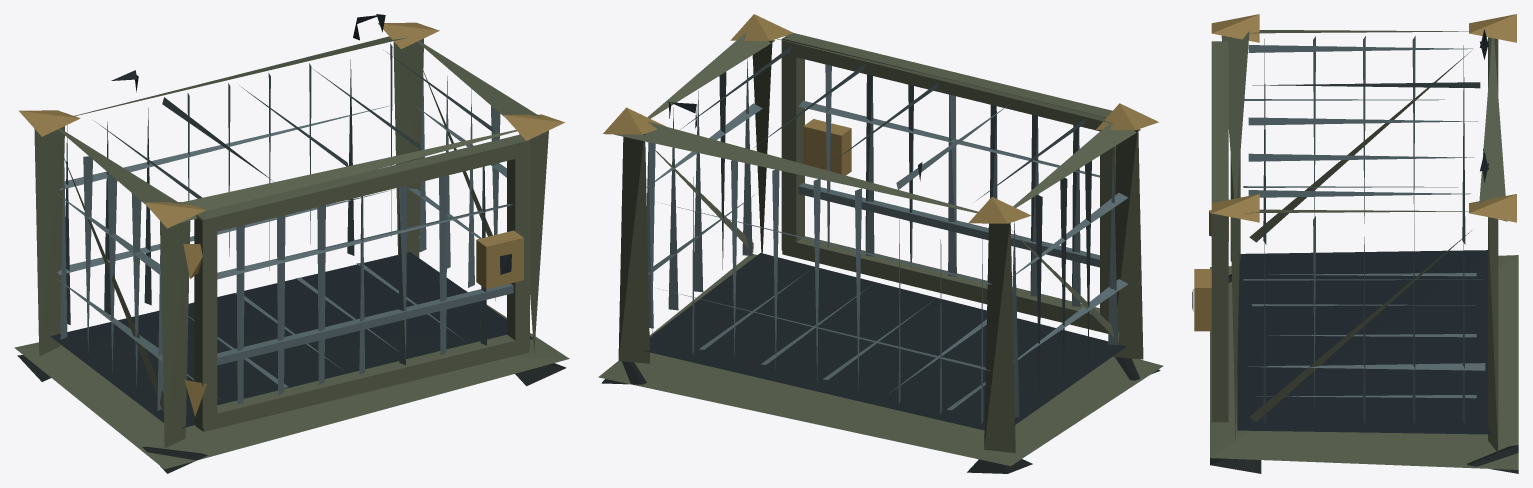
The model's file is MINER_CAGE.shadow.glb.
3 renders of one model, left to right at view 1: azimuth 30°, elevation 25°; view 2: azimuth 150°, elevation 25°; view 3: azimuth 270°, elevation 25°, orthographic. The views are drawn at different scales.
Parts seen in each view (by area): view 1: Body_Mesh, DoorPivot_Mesh; view 2: Body_Mesh, DoorPivot_Mesh; view 3: Body_Mesh, DoorPivot_Mesh.
Part boxes in pixels (x1,y1,x2,y2): Body_Mesh: [14, 14, 569, 473]; DoorPivot_Mesh: [194, 134, 529, 431]; Body_Mesh: [598, 14, 1163, 473]; DoorPivot_Mesh: [781, 33, 1116, 333]; Body_Mesh: [1209, 14, 1518, 473]; DoorPivot_Mesh: [1192, 41, 1228, 422].
Size of the model in its own units: 2.8 by 1.85 by 1.9.
